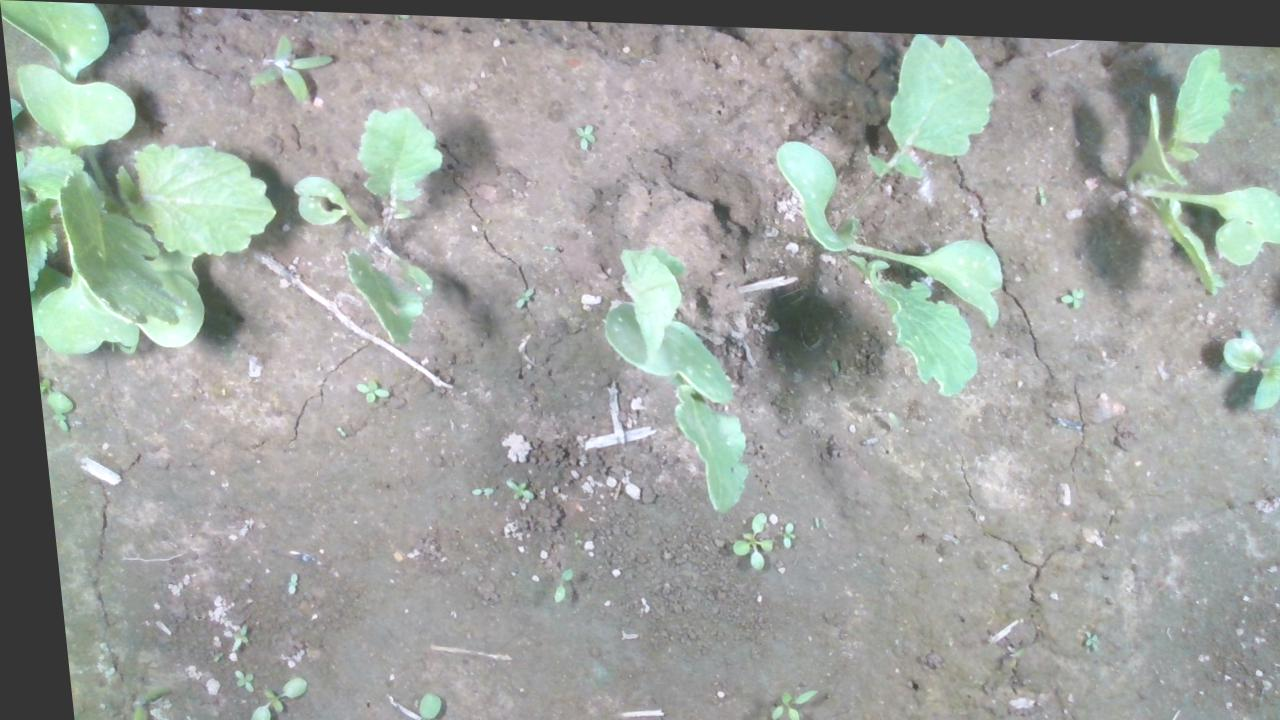weed: (242, 29, 337, 105), (713, 501, 765, 567), (752, 679, 807, 718), (536, 562, 563, 600), (345, 374, 382, 400), (1049, 278, 1080, 302), (213, 621, 237, 649), (571, 117, 593, 145), (494, 475, 522, 495), (217, 667, 240, 691), (768, 513, 786, 543), (1066, 619, 1086, 641), (1031, 172, 1044, 199), (272, 568, 286, 592), (457, 481, 484, 493)
